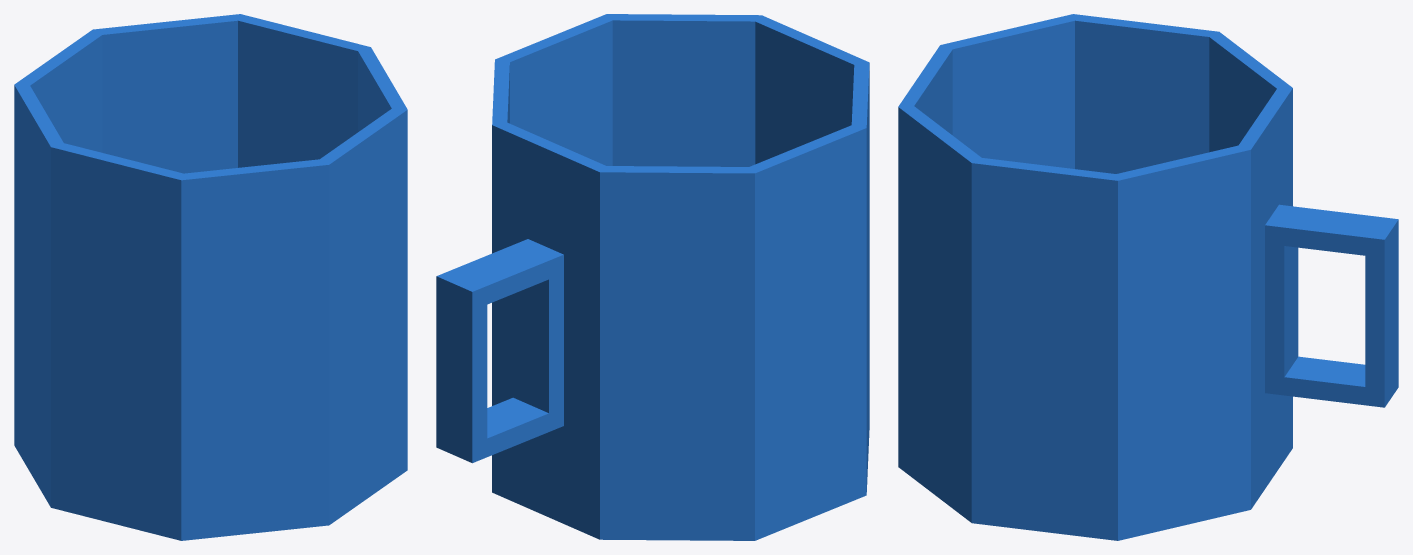
The model's file is Iron cup.glb.
The picture shows the model from 3 angles, left to right: view 1: azimuth 30°, elevation 25°; view 2: azimuth 150°, elevation 25°; view 3: azimuth 270°, elevation 25°; orthographic projection. The views are drawn at different scales.
Visible parts, largest first — view 1: Iron cup; view 2: Iron cup; view 3: Iron cup.
Part boxes in pixels (x1=…): Iron cup: x1=14, y1=14, x2=407, y2=540; Iron cup: x1=436, y1=14, x2=869, y2=540; Iron cup: x1=898, y1=14, x2=1398, y2=540.
Size of the model in its own units: 0.0751 by 0.0756 by 0.0952.
